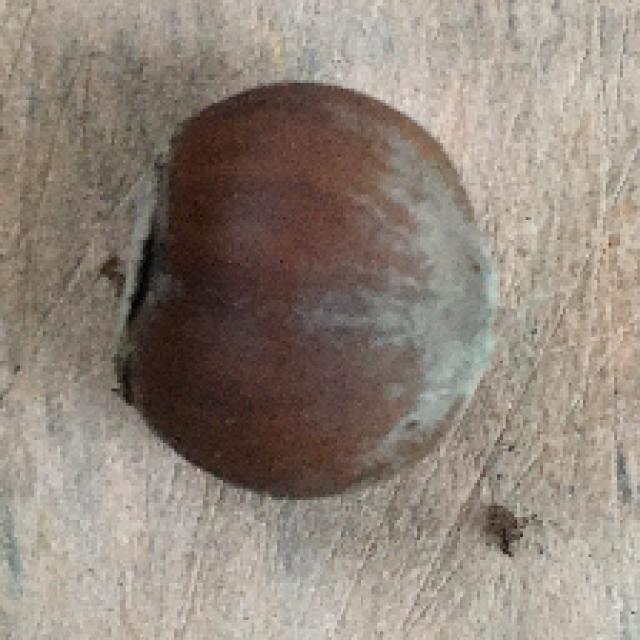damagedHazelnut: (117, 76, 497, 503)
